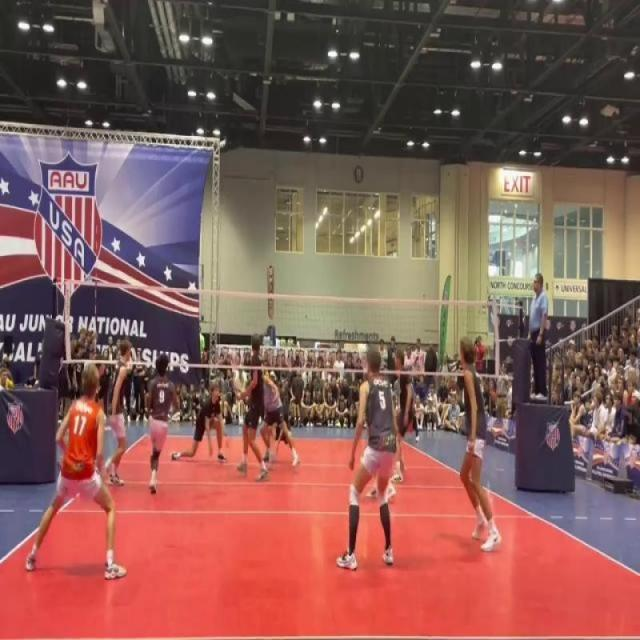volleyball: (232, 348, 239, 364)
